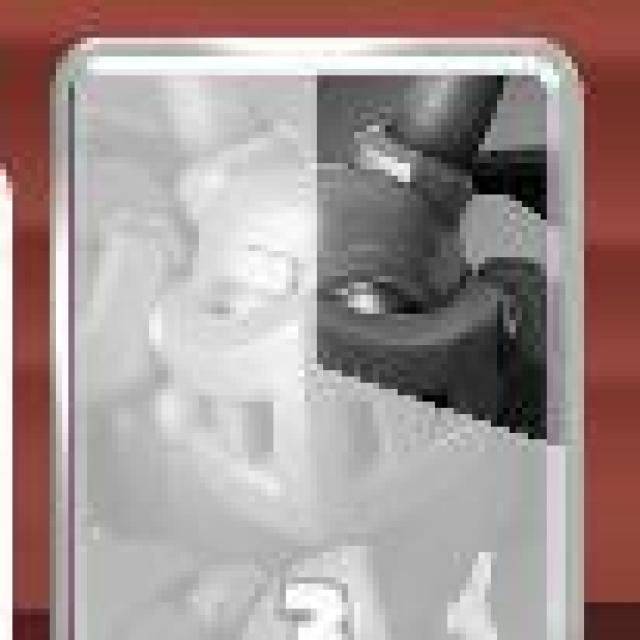Mega_Minion: (59, 40, 585, 640)
